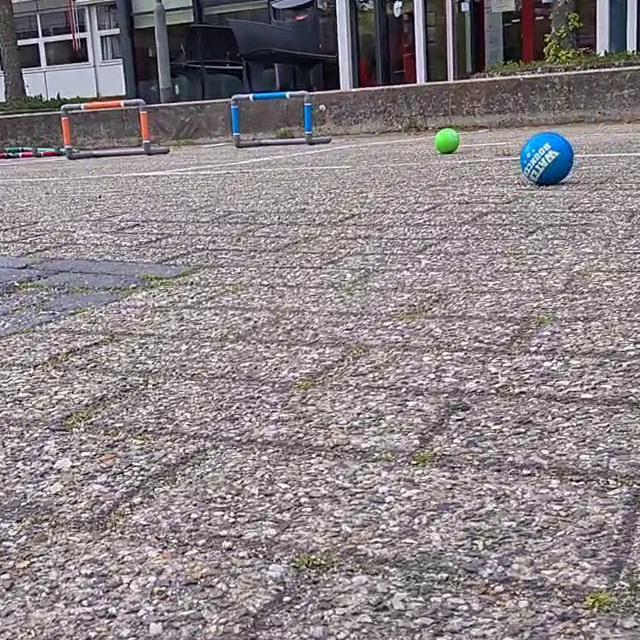ball: (432, 124, 462, 158)
